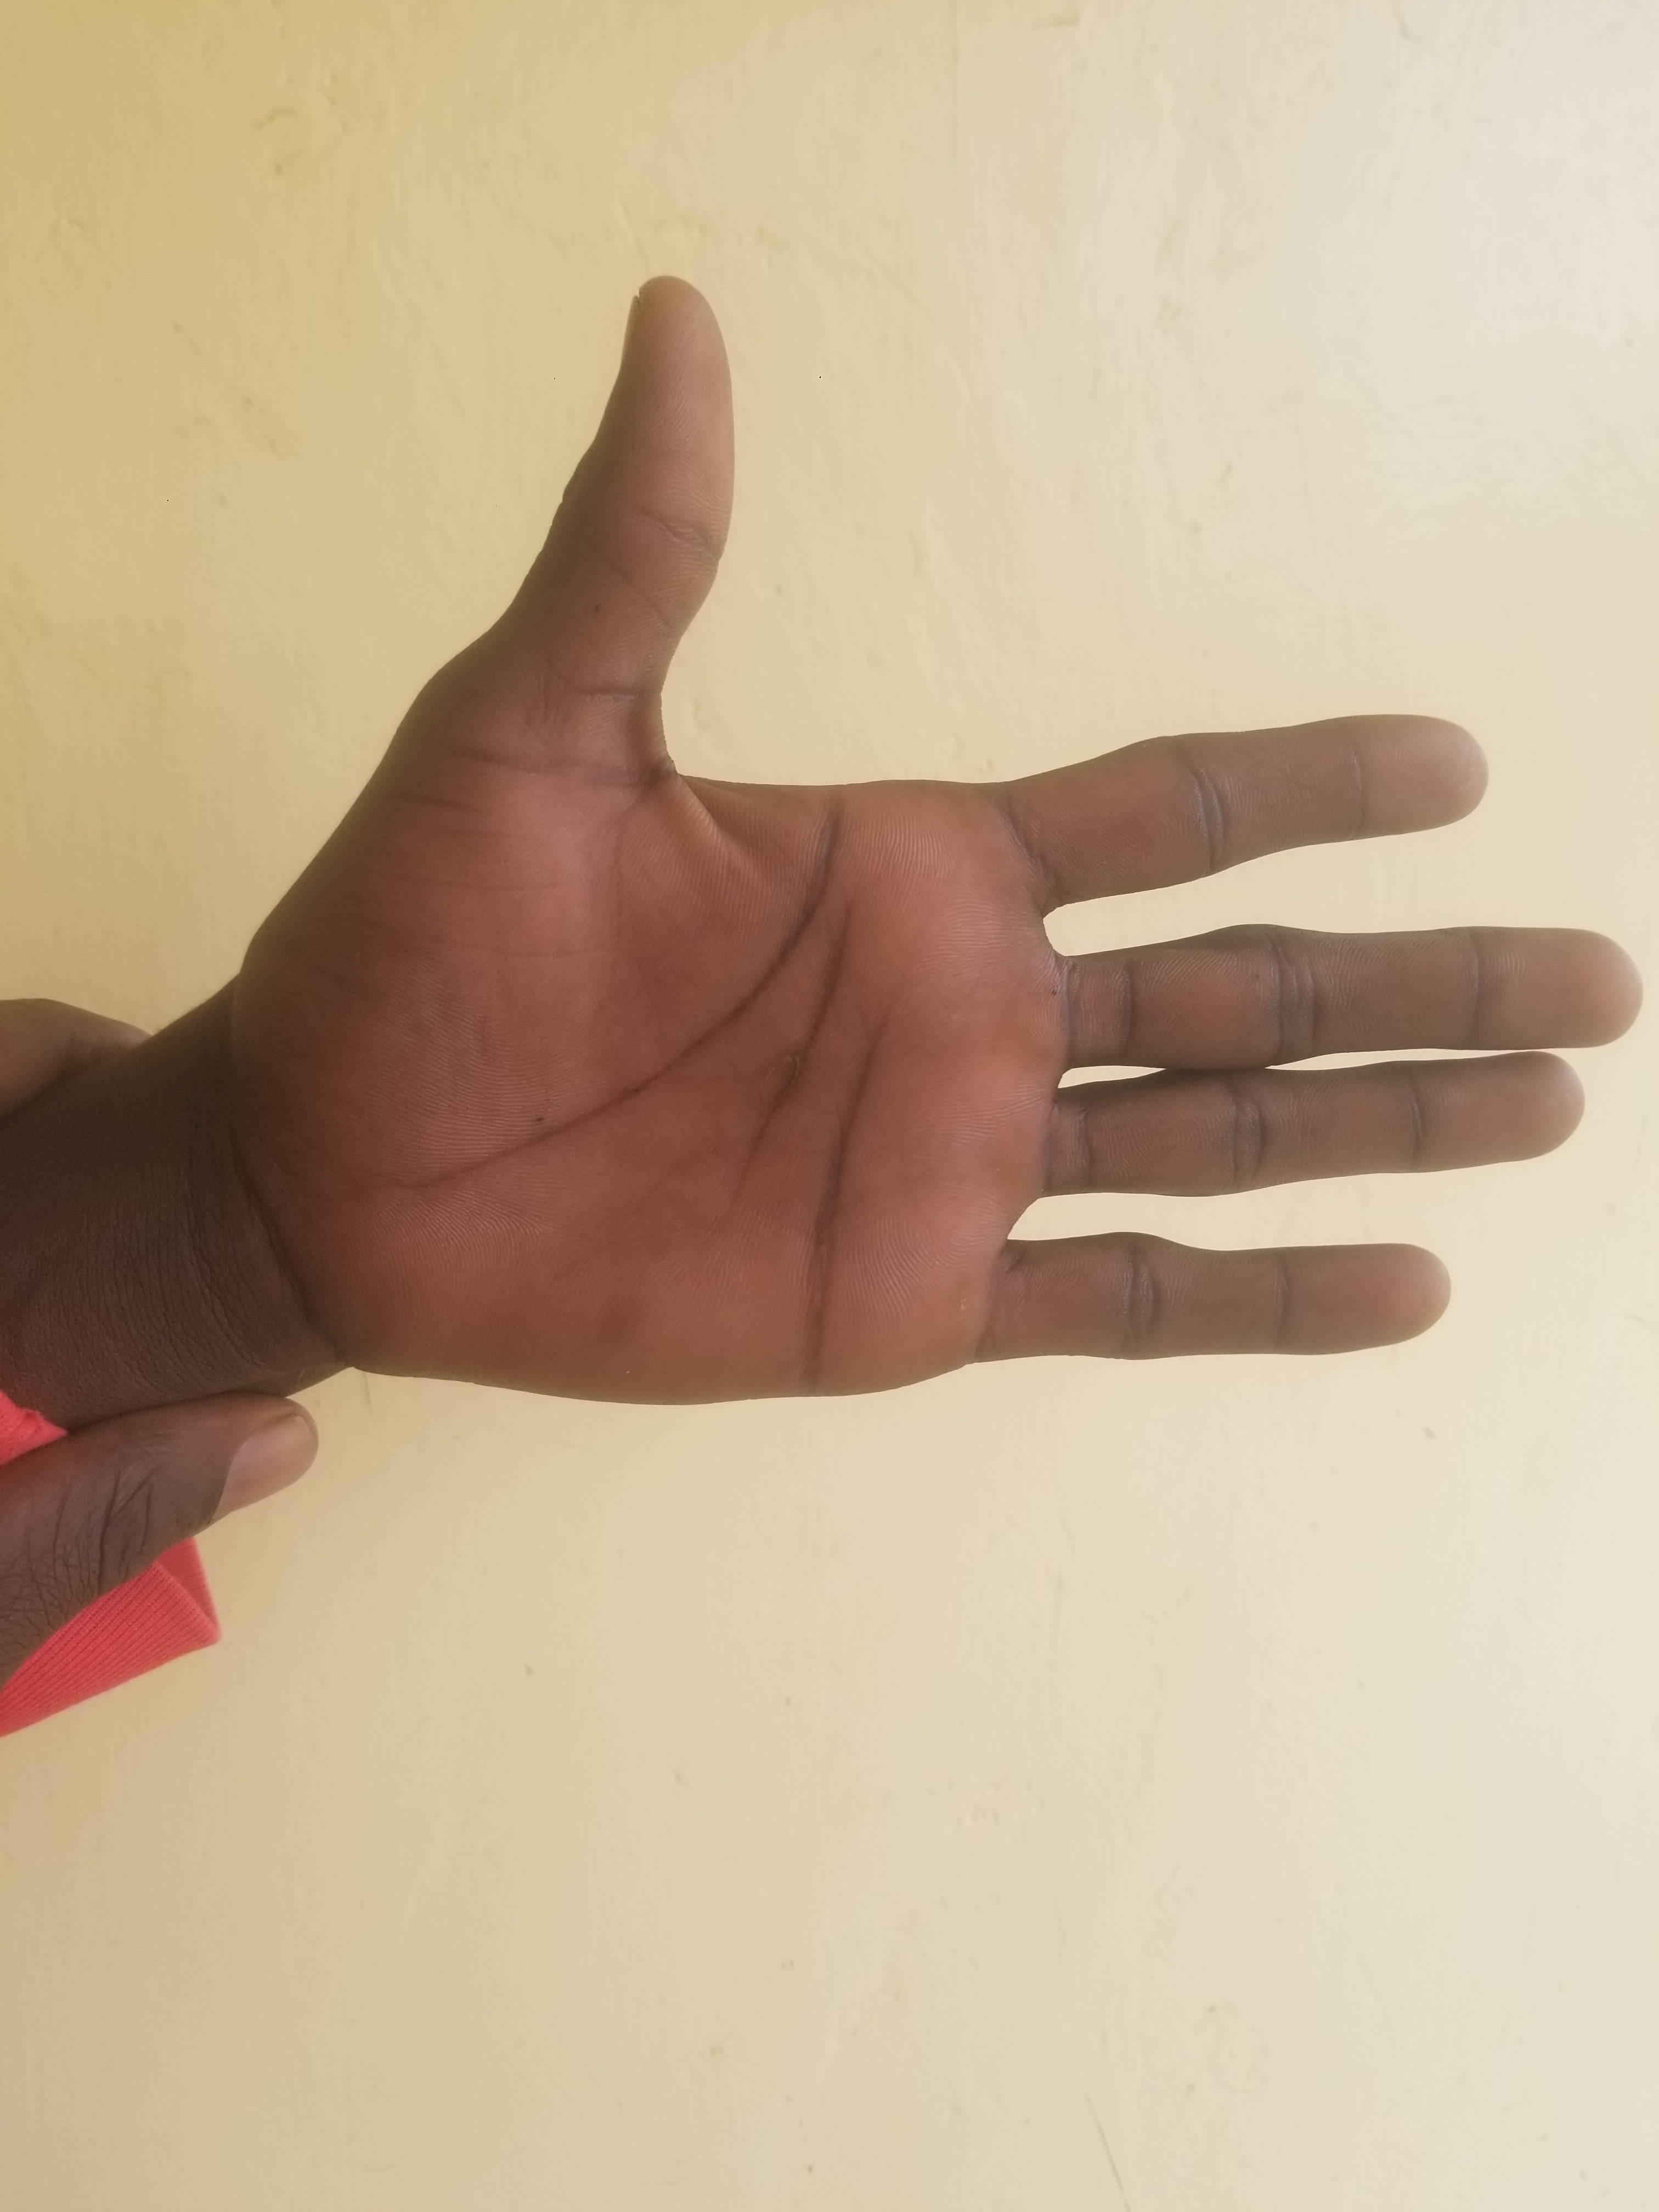open palm: (242, 183, 1645, 1728)
